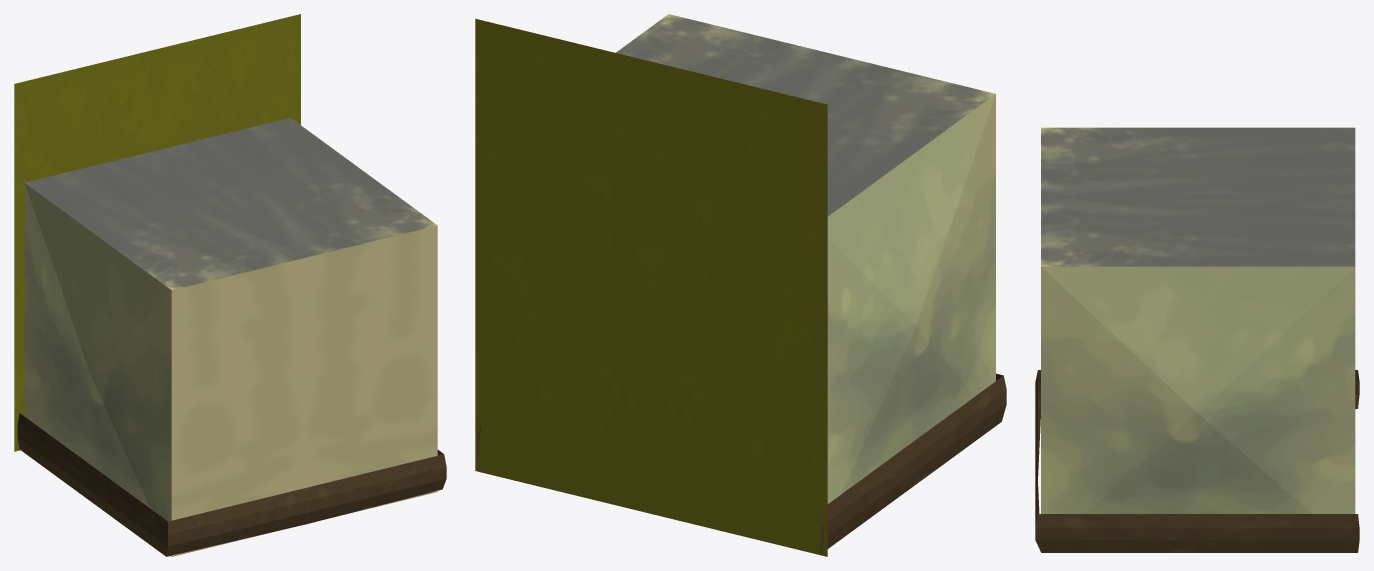
Rendered from PrinterOven.glb.
The picture shows the model from 3 angles, left to right: view 1: azimuth 30°, elevation 25°; view 2: azimuth 150°, elevation 25°; view 3: azimuth 270°, elevation 25°; orthographic projection. The views are drawn at different scales.
Parts seen in each view (by area): view 1: printer; view 2: printer; view 3: printer.
Part boxes in pixels (x1,y1,x2,y2): printer: (14, 14, 446, 556); printer: (475, 14, 1006, 556); printer: (1035, 127, 1359, 552).
Bounding box in the file's own units: 1.13 × 1.38 × 1.03.
Materials: 1 (1 with a texture image).
